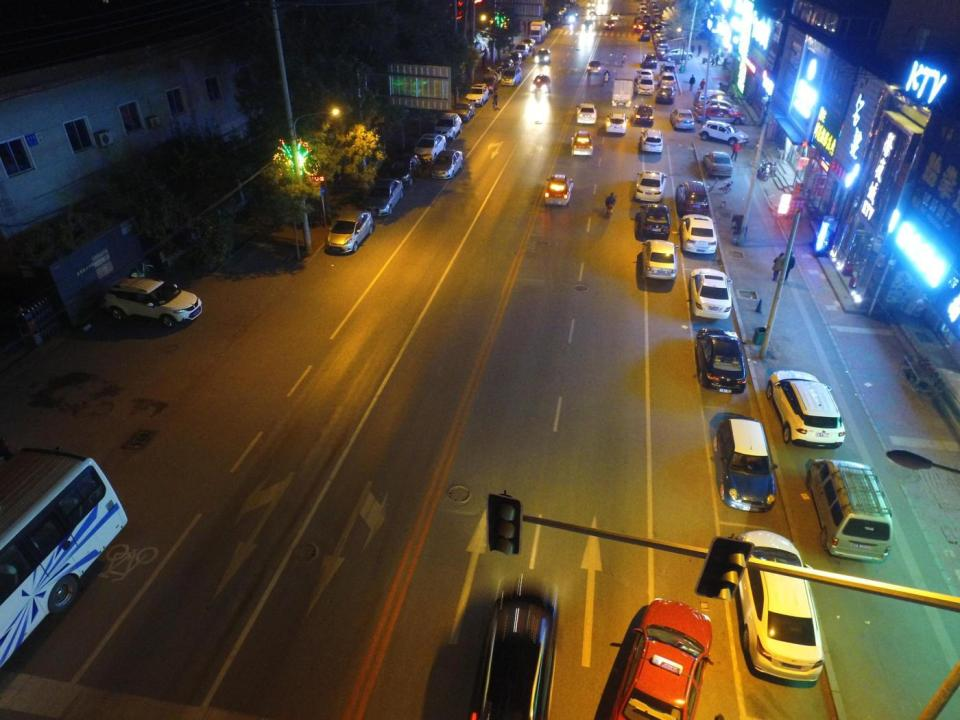bus: (0, 448, 127, 675)
car: (732, 529, 825, 683), (608, 597, 712, 719), (468, 593, 553, 720), (710, 412, 776, 512), (101, 277, 202, 327), (697, 328, 745, 393), (688, 268, 732, 322), (325, 208, 374, 254), (640, 238, 676, 284), (683, 214, 719, 255), (366, 179, 404, 216), (674, 179, 709, 218), (700, 121, 750, 146), (639, 204, 669, 241), (544, 172, 576, 206), (391, 153, 423, 186), (430, 150, 463, 178), (636, 169, 663, 203), (698, 107, 746, 125), (702, 150, 732, 178), (417, 132, 444, 163), (640, 127, 664, 156), (437, 115, 463, 140), (698, 99, 744, 112), (573, 130, 595, 157), (454, 99, 478, 122), (696, 90, 737, 103), (669, 109, 693, 130), (468, 84, 489, 106), (531, 74, 552, 96), (576, 102, 596, 125), (502, 67, 526, 86), (608, 114, 630, 134), (634, 105, 654, 125), (658, 84, 676, 106), (663, 48, 694, 60), (639, 76, 655, 94), (483, 76, 500, 92), (658, 72, 676, 87), (520, 37, 537, 51), (642, 53, 659, 67), (537, 49, 552, 64), (513, 44, 529, 57), (636, 68, 652, 81), (484, 68, 502, 79), (497, 58, 512, 71), (507, 54, 523, 65), (589, 60, 600, 76), (660, 63, 675, 73), (606, 19, 617, 30), (613, 10, 621, 23), (590, 11, 598, 19)
truck: (614, 72, 636, 108), (531, 24, 546, 44)
van: (805, 459, 890, 563)
